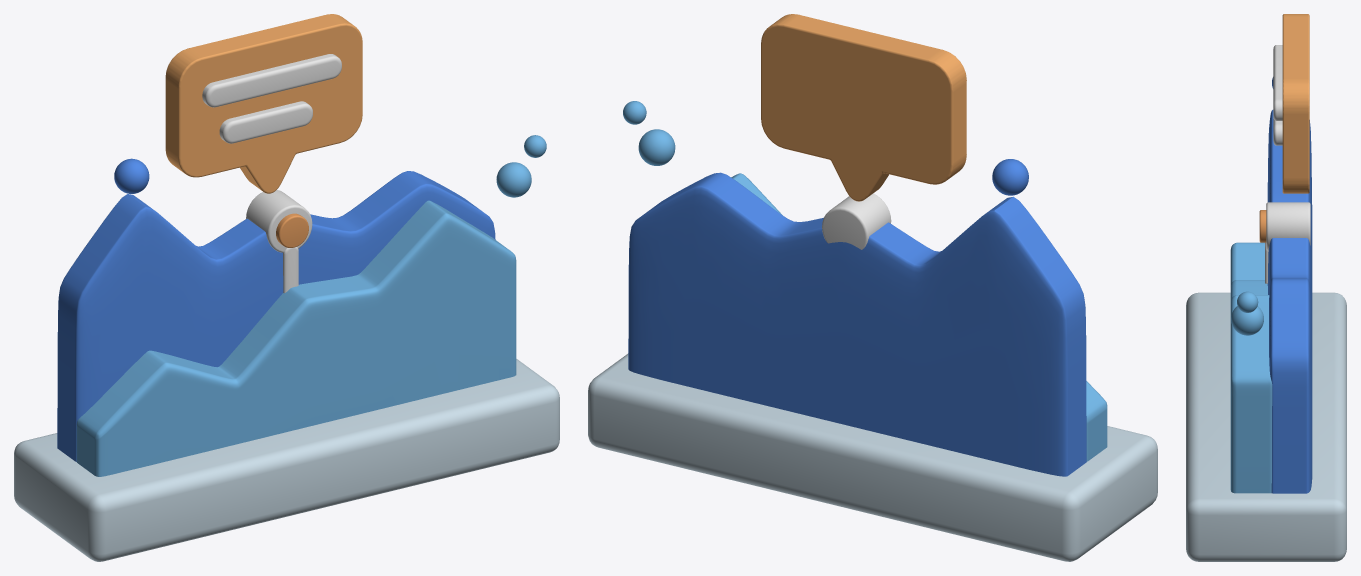
The model's file is charts.glb.
3 renders of one model, left to right at view 1: azimuth 30°, elevation 25°; view 2: azimuth 150°, elevation 25°; view 3: azimuth 270°, elevation 25°, orthographic. The views are drawn at different scales.
Visible parts, largest first — view 1: Cube, Cube.003, Cube.006, Cube.004, Cube.001, Cube.002, Cylinder.007, Sphere.001, Sphere, Cylinder.006; view 2: Cube.006, Cube.003, Cube.004, Cylinder.007, Cube, Sphere, Sphere.001; view 3: Cube.003, Cube.006, Cube, Cube.004, Cylinder.007, Cube.001, Sphere.001, Sphere.002, Cylinder.006, Cube.002.
Boxes of the visible parts, left/top/right/bottom form: Cube: left=76, top=200, right=516, bottom=476; Cube.003: left=14, top=359, right=559, bottom=561; Cube.006: left=57, top=171, right=495, bottom=461; Cube.004: left=165, top=14, right=362, bottom=193; Cube.001: left=202, top=54, right=341, bottom=107; Cube.002: left=219, top=101, right=312, bottom=143; Cylinder.007: left=246, top=190, right=312, bottom=252; Sphere.001: left=496, top=162, right=531, bottom=197; Sphere: left=114, top=158, right=149, bottom=193; Cylinder.006: left=276, top=213, right=308, bottom=247; Cube.006: left=628, top=172, right=1086, bottom=476; Cube.003: left=588, top=353, right=1157, bottom=561; Cube.004: left=761, top=14, right=966, bottom=201; Cylinder.007: left=822, top=193, right=891, bottom=249; Cube: left=731, top=173, right=1107, bottom=461; Sphere: left=992, top=159, right=1028, bottom=195; Sphere.001: left=638, top=129, right=675, bottom=165; Cube.003: left=1186, top=292, right=1346, bottom=561; Cube.006: left=1267, top=110, right=1312, bottom=493; Cube: left=1230, top=242, right=1272, bottom=493; Cube.004: left=1282, top=14, right=1309, bottom=193; Cylinder.007: left=1266, top=202, right=1310, bottom=250; Cube.001: left=1273, top=45, right=1282, bottom=120; Sphere.001: left=1231, top=306, right=1263, bottom=335; Sphere.002: left=1237, top=291, right=1258, bottom=312; Cylinder.006: left=1259, top=210, right=1266, bottom=242; Cube.002: left=1273, top=117, right=1282, bottom=145.
Bounding box in the file's own units: 2.42 × 2.08 × 0.743.
